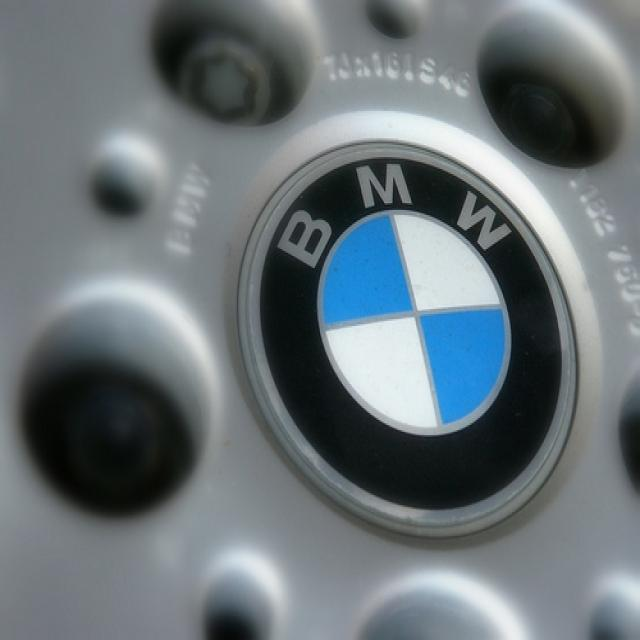bmw: (235, 136, 585, 545)
